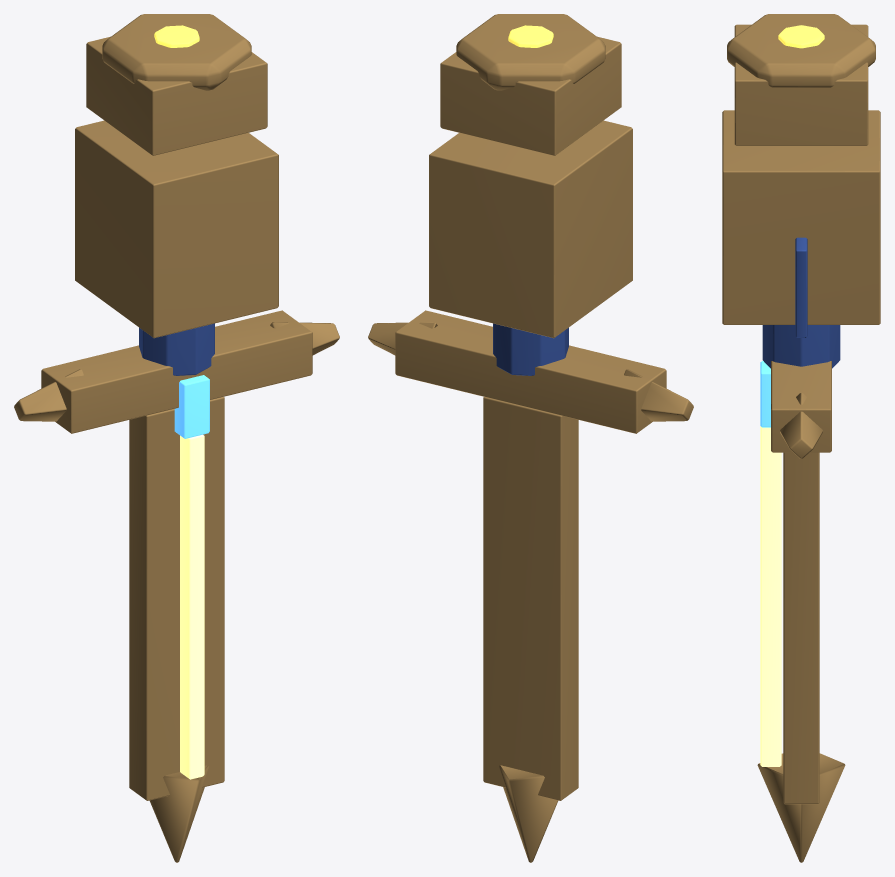
The model's file is errant_arm_vowkeeper.glb.
3 renders of one model, left to right at view 1: azimuth 30°, elevation 25°; view 2: azimuth 150°, elevation 25°; view 3: azimuth 270°, elevation 25°, orthographic.
Visible parts, largest first — view 1: errant_arm_vowkeeper; view 2: errant_arm_vowkeeper; view 3: errant_arm_vowkeeper.
Boxes of the visible parts, <box> form: errant_arm_vowkeeper: <box>14,14,339,862</box>; errant_arm_vowkeeper: <box>368,14,693,862</box>; errant_arm_vowkeeper: <box>722,14,880,862</box>.
Bounding box in the file's own units: 0.6 × 1.5 × 0.26.
Materials: 1 (1 with a texture image).
